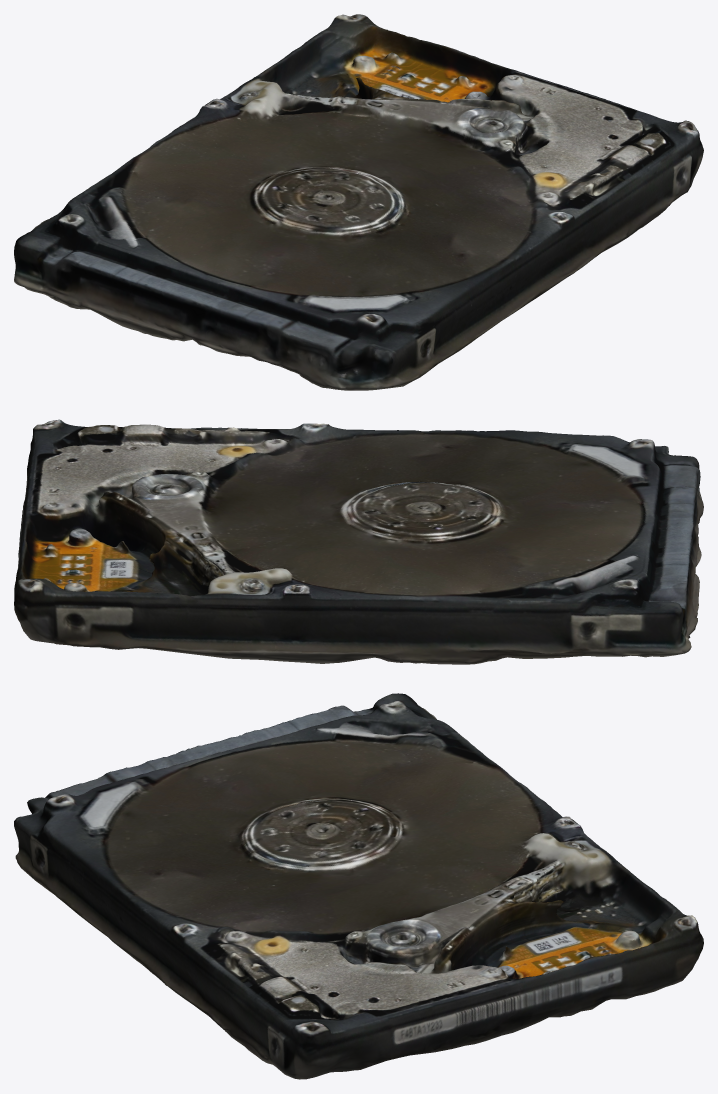
The model's file is hard_disk_drive.glb.
3 renders of one model, top to bottom at view 1: azimuth 30°, elevation 25°; view 2: azimuth 150°, elevation 25°; view 3: azimuth 270°, elevation 25°, orthographic. The views are drawn at different scales.
Parts seen in each view (by area): view 1: 3DModel; view 2: 3DModel; view 3: 3DModel.
Part boxes in pixels (x1,y1,x2,y2): 3DModel: (14,14,703,390); 3DModel: (14,419,703,664); 3DModel: (14,693,703,1079).
Bounding box in the file's own units: 0.8585 × 0.1226 × 0.7479.
Materials: 1 (1 with a texture image).
